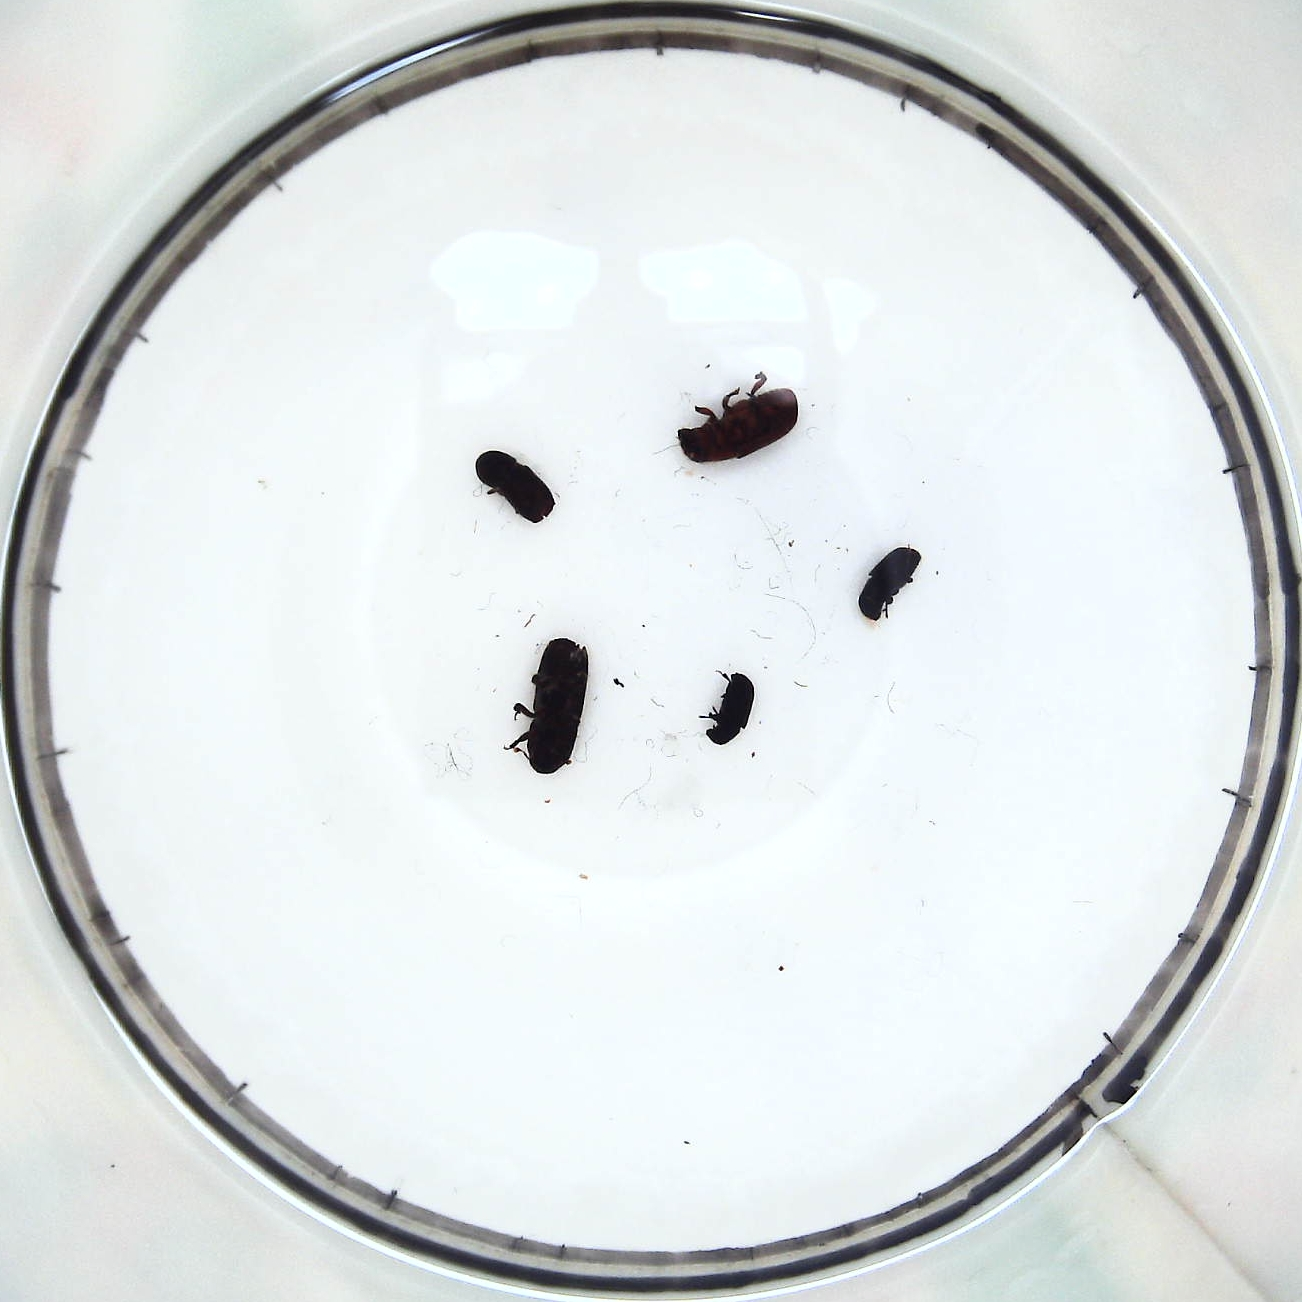Boerner: (526, 638, 587, 775)
Leconte: (675, 390, 799, 465)
Linnaeus: (472, 447, 556, 523)
armandi: (858, 544, 920, 624)
coleoptera: (703, 671, 756, 745)
